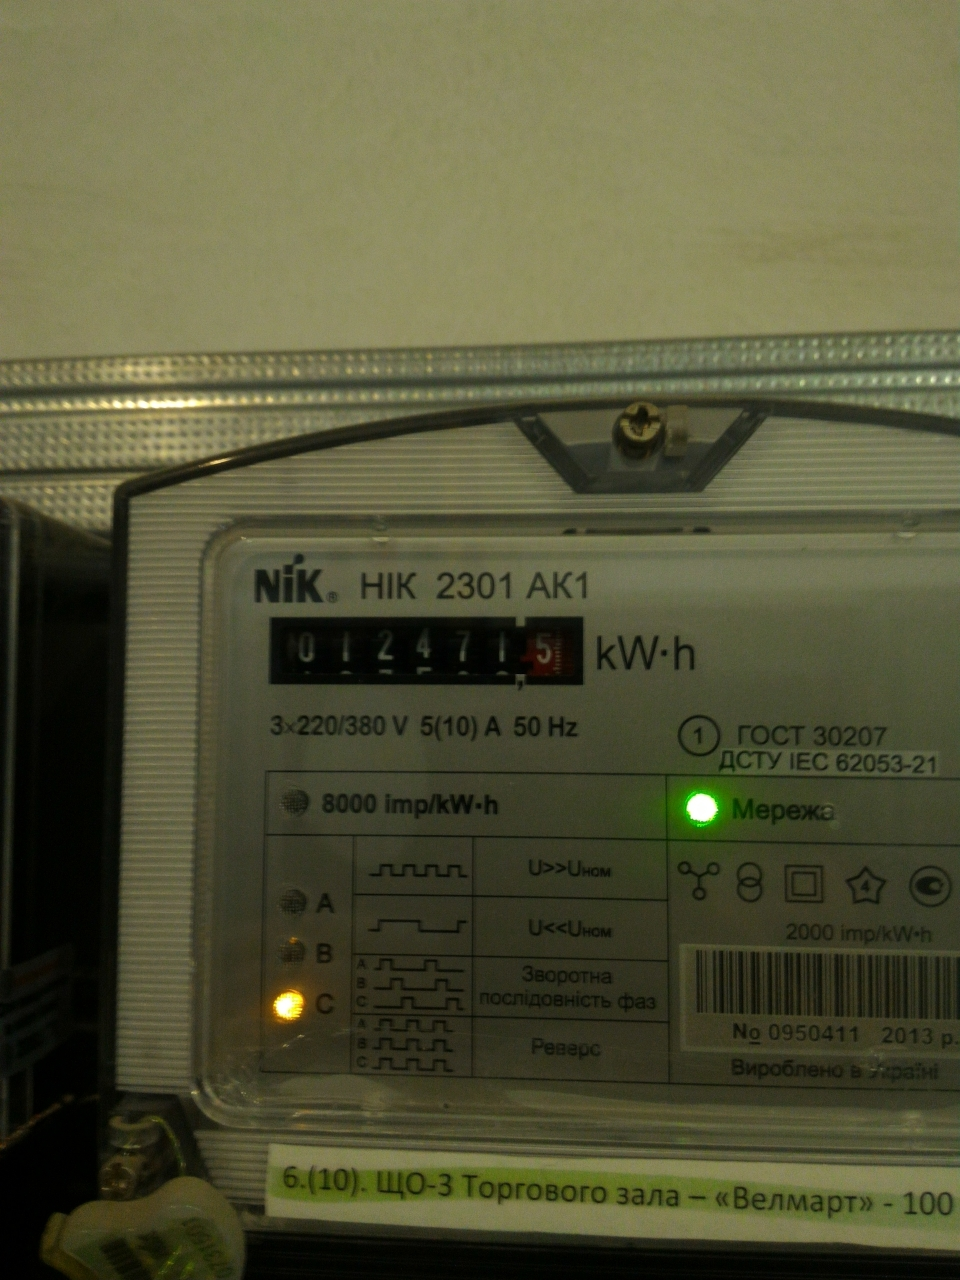0: (293, 627, 318, 666)
1: (336, 627, 353, 665), (494, 626, 509, 663)
2: (374, 626, 396, 663)
4: (411, 624, 434, 661)
5: (532, 628, 555, 667)
7: (454, 625, 473, 666)
screen: (256, 602, 603, 697)
